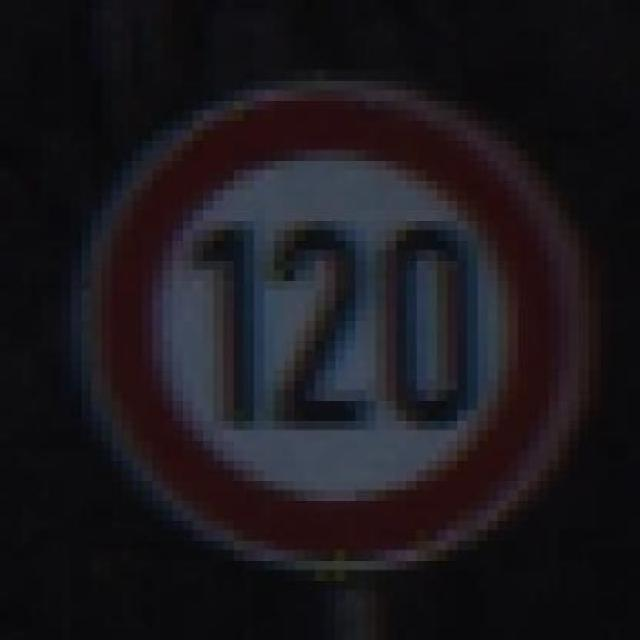forb_speed_over_120: (103, 96, 574, 561)
